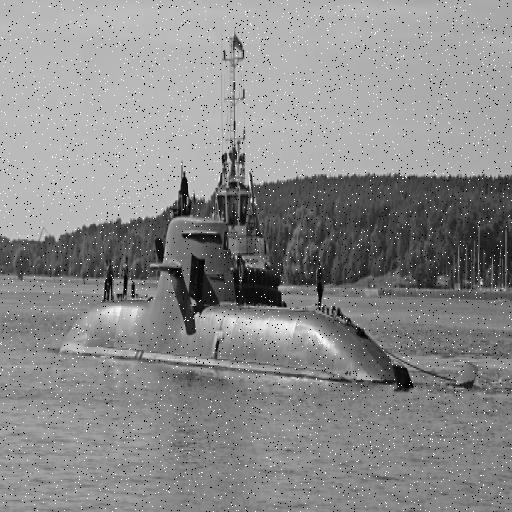submarine: (62, 216, 477, 393)
